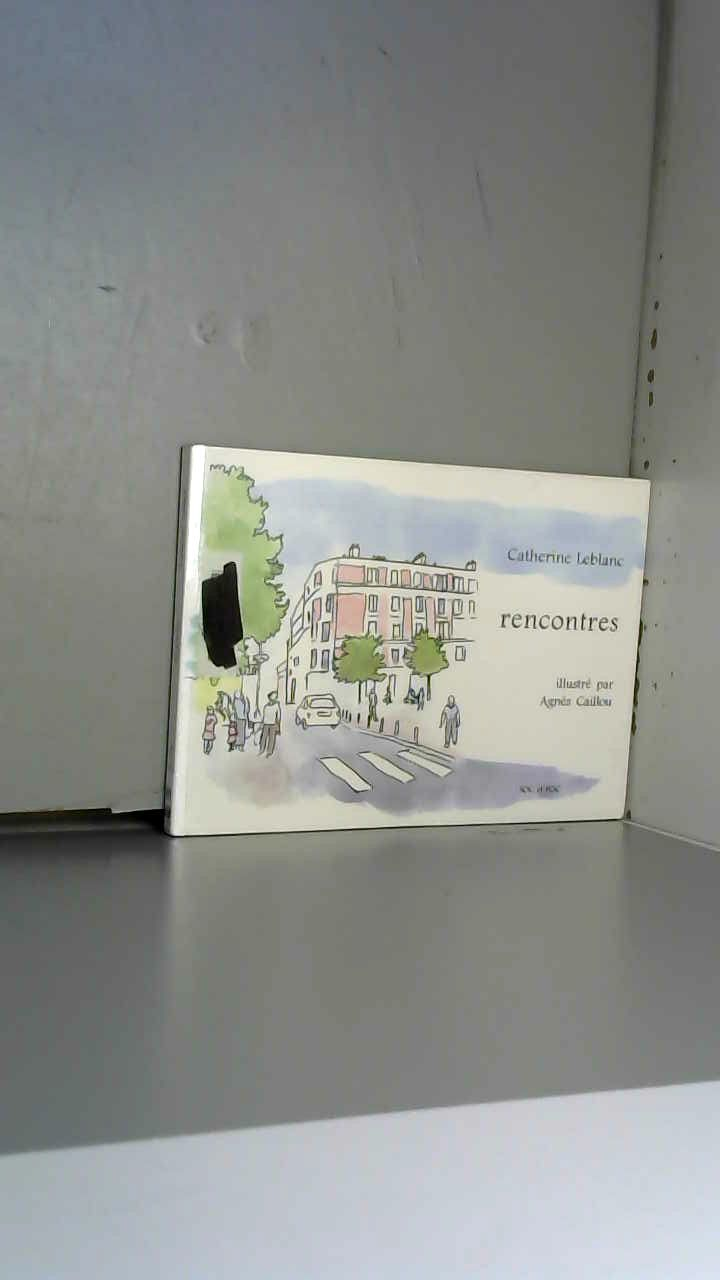book: (147, 414, 672, 876)
